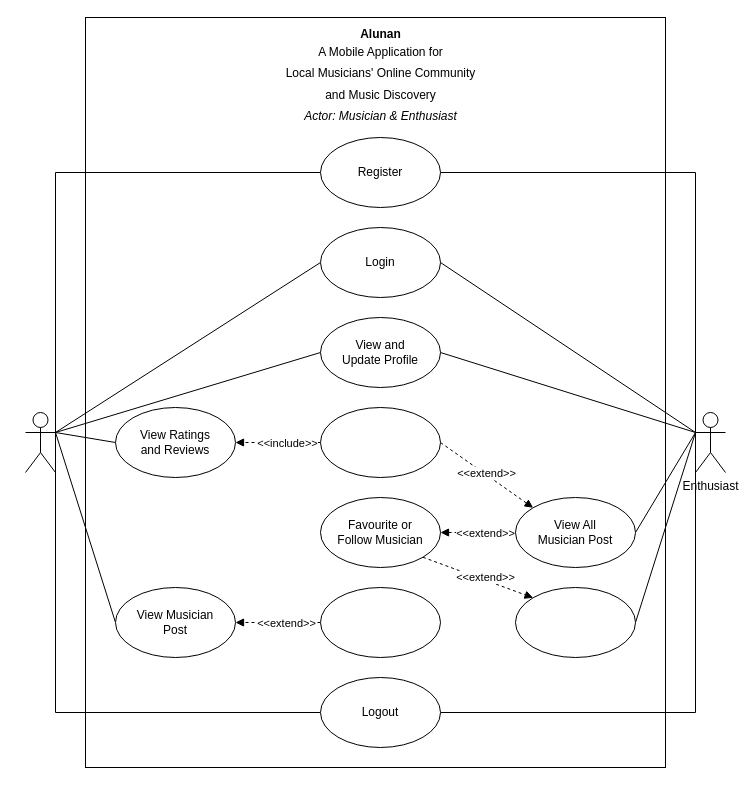
Some shapes in this 756 by 785 pixel diagram are drawn without their labels. Each missing label, with the centre of its shape:
Add Ratings and Reviews: point 380,442
Create Music Snippet Post: point 380,622
Musician: point 40,442
View Favourite Musician Post: point 575,622
